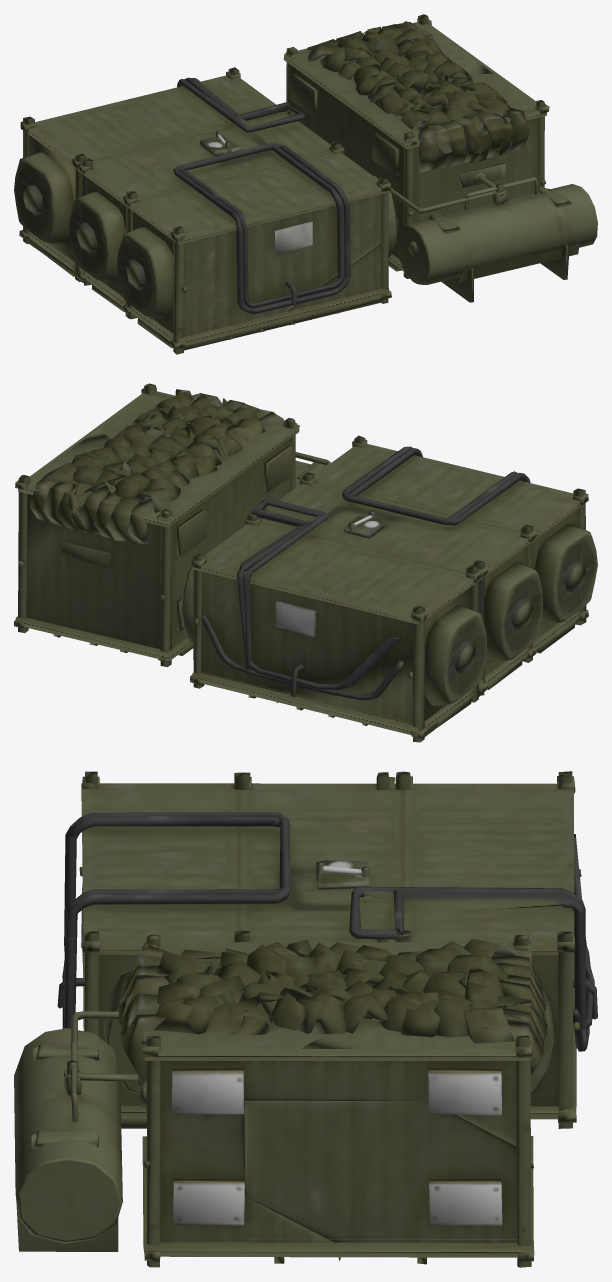
Rendered from cn-power-plant.glb.
The picture shows the model from 3 angles, top to bottom: view 1: azimuth 30°, elevation 25°; view 2: azimuth 150°, elevation 25°; view 3: azimuth 270°, elevation 25°; orthographic projection. The views are drawn at different scales.
Visible parts, largest first — view 1: geometry_0; view 2: geometry_0; view 3: geometry_0.
Boxes of the visible parts, bbox=[...] form: geometry_0: bbox=[14, 14, 597, 354]; geometry_0: bbox=[14, 383, 597, 742]; geometry_0: bbox=[14, 771, 597, 1267].
Size of the model in its own units: 1 by 0.3532 by 0.7679.
Materials: 1 (1 with a texture image).
